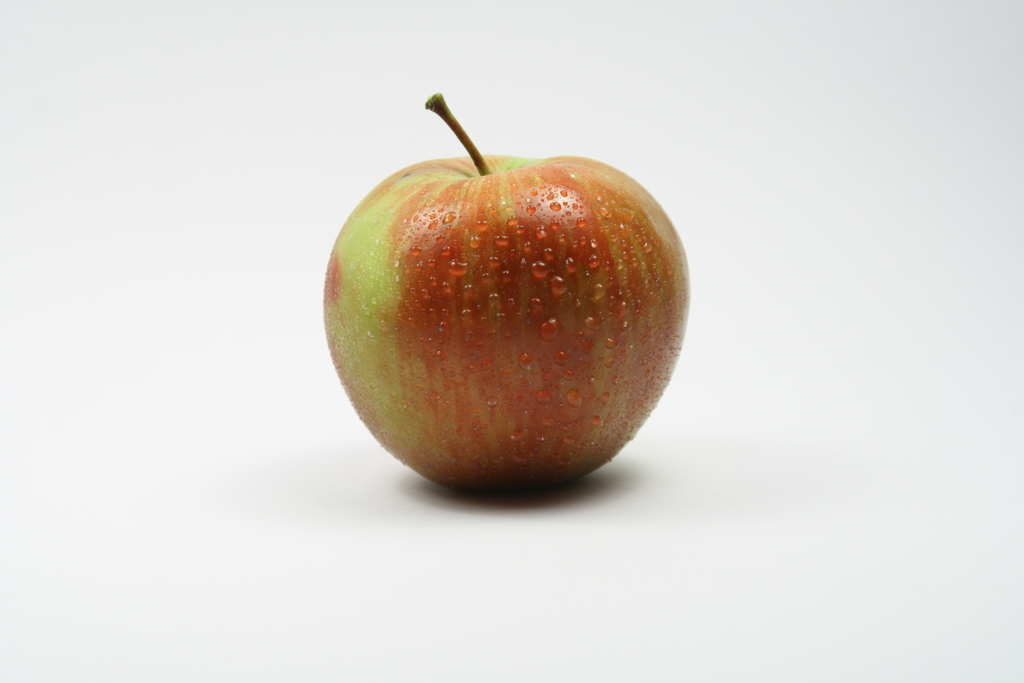Apple: (302, 94, 704, 497)
